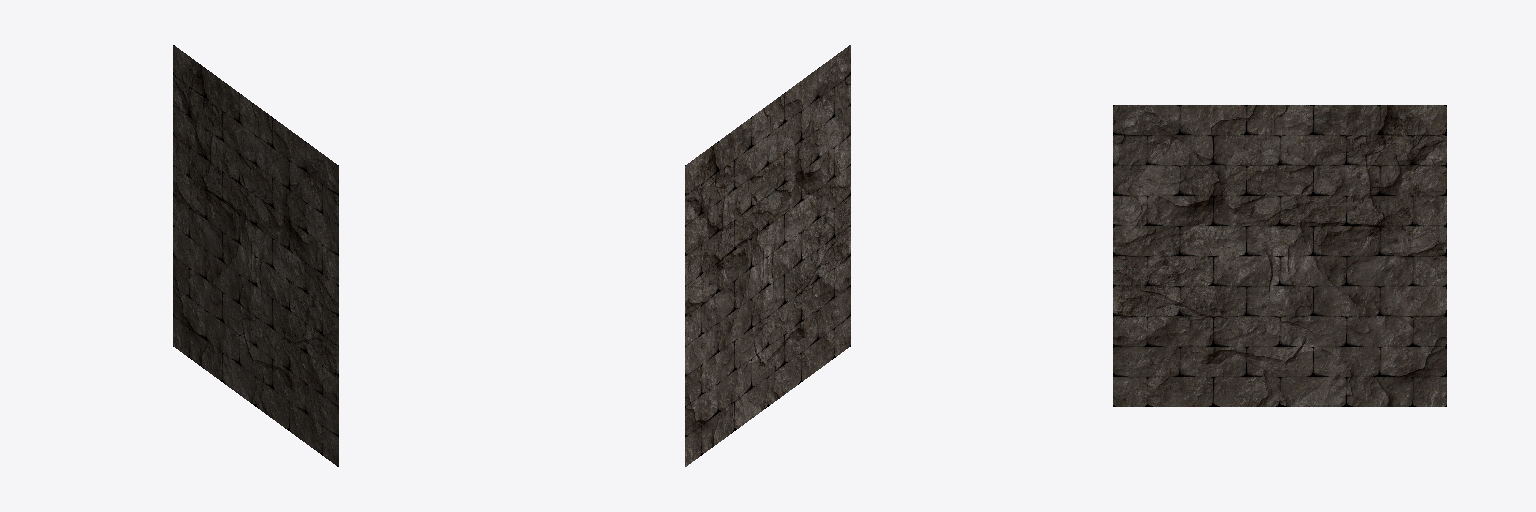
3 renders of one model, left to right at view 1: azimuth 30°, elevation 25°; view 2: azimuth 150°, elevation 25°; view 3: azimuth 270°, elevation 25°, orthographic.
Parts seen in each view (by area): view 1: Plane; view 2: Plane; view 3: Plane.
Part boxes in pixels (bbox=[...]): Plane: bbox=[173, 45, 338, 466]; Plane: bbox=[685, 45, 850, 466]; Plane: bbox=[1113, 105, 1446, 406].
Bounding box in the file's own units: 0 × 2 × 2.
1 materials, 1 textured.